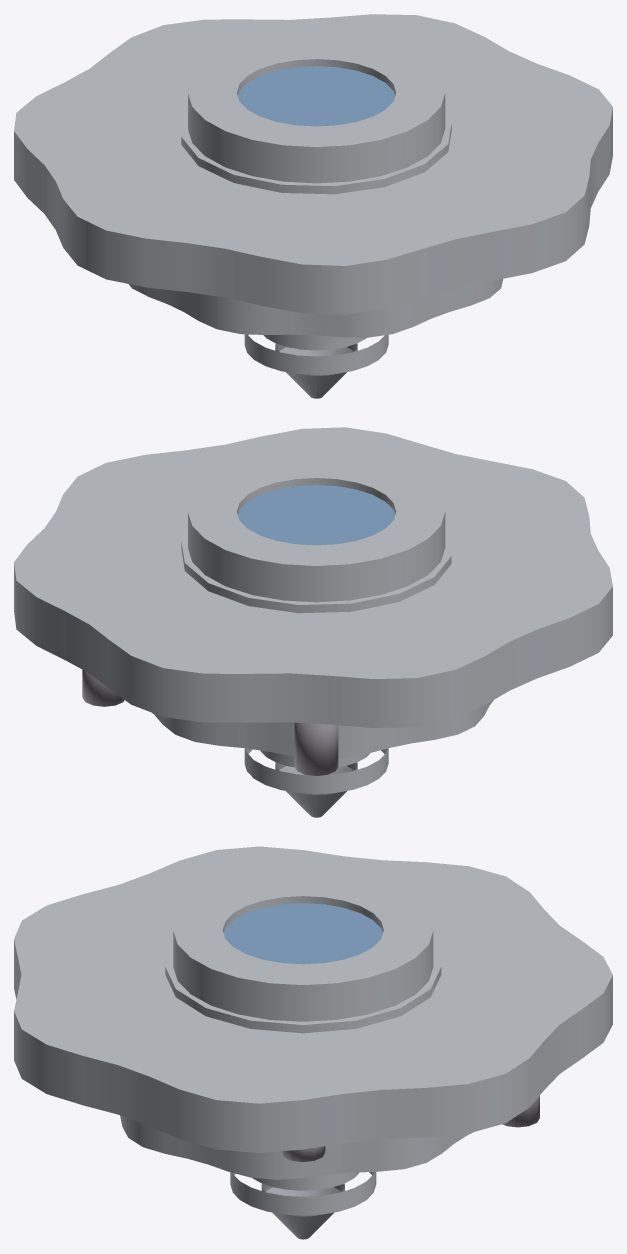
The model's file is stack-proof.glb.
3 views of the same model, one above another, from view 1: azimuth 30°, elevation 25°; view 2: azimuth 150°, elevation 25°; view 3: azimuth 270°, elevation 25° (orthographic).
Parts seen in each view (by area): view 1: blade_wheel.001, core_iron.001, assist_wing.001, bit_point.001; view 2: blade_wheel.001, core_iron.001, assist_wing.001, bit_point.001, weight_brick.001, weight_slug.001; view 3: blade_wheel.001, core_iron.001, assist_wing.001, bit_point.001, weight_slug.001.
Part boxes in pixels (x1,y1,x2,y2): blade_wheel.001: (14,14,612,314); core_iron.001: (188,38,445,183); assist_wing.001: (128,279,502,337); bit_point.001: (244,334,388,398); blade_wheel.001: (14,427,612,727); core_iron.001: (188,457,445,602); assist_wing.001: (152,700,493,758); bit_point.001: (244,748,388,817); weight_brick.001: (294,722,338,775); weight_slug.001: (82,669,124,706); blade_wheel.001: (14,846,612,1152); core_iron.001: (173,875,433,1021); assist_wing.001: (120,1115,473,1179); bit_point.001: (230,1172,376,1239); weight_slug.001: (502,1095,539,1127).
Size of the model in its own units: 46.78 by 26 by 46.04.
